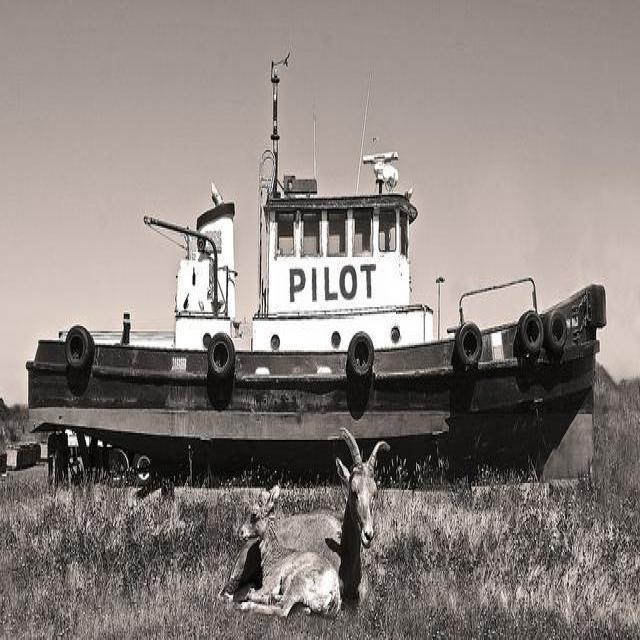Sheep: (274, 428, 391, 592)
